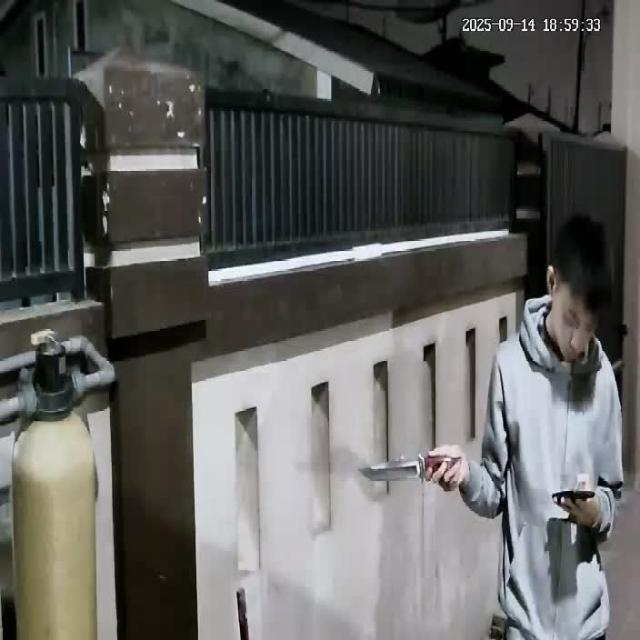senjata_tajam: (357, 454, 428, 484)
